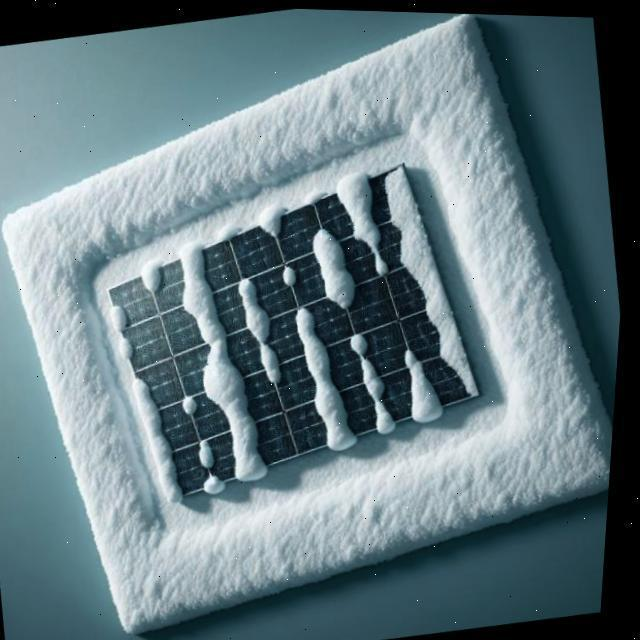Anomaly Solar Panel: (99, 160, 480, 498)
Snow: (373, 162, 486, 401), (164, 249, 276, 476), (285, 302, 359, 443), (231, 272, 296, 385), (135, 372, 191, 499), (336, 175, 398, 280), (308, 221, 364, 313), (396, 341, 447, 414), (362, 352, 399, 426), (142, 266, 169, 294), (261, 211, 290, 237), (351, 327, 374, 354), (201, 436, 219, 467), (115, 302, 132, 331), (282, 261, 300, 285), (124, 334, 139, 358), (184, 395, 201, 414), (205, 472, 228, 486)
